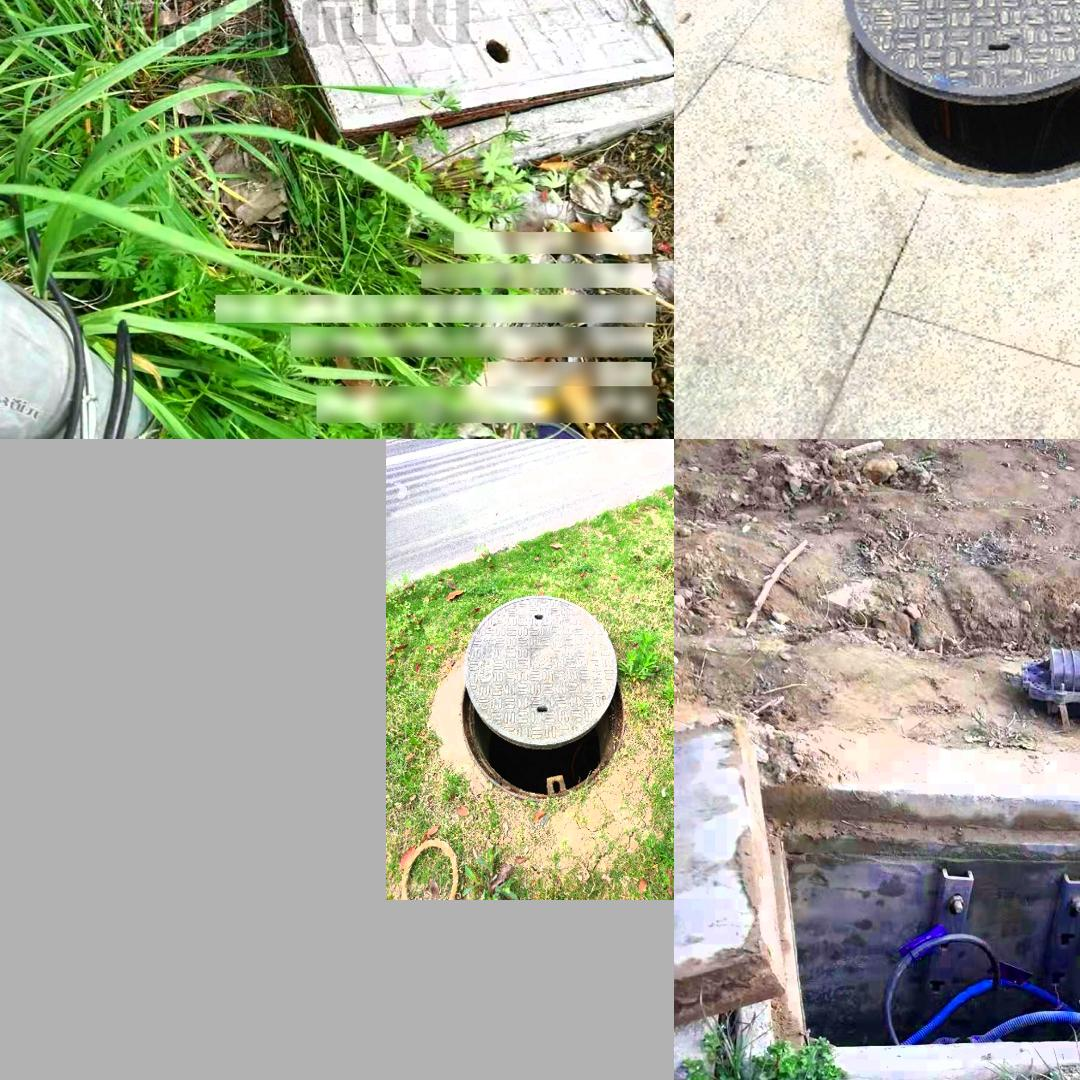uncovered: (674, 716, 1080, 1073), (181, 0, 672, 169), (846, 0, 1080, 186), (463, 594, 624, 795)
